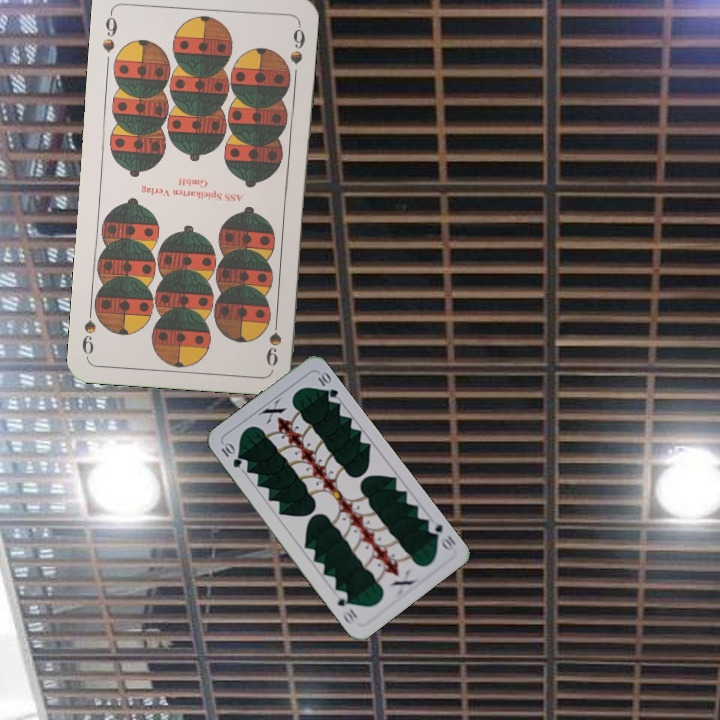G10: (423, 516, 459, 553), (217, 439, 244, 470)
S9: (262, 310, 284, 369), (98, 8, 120, 55)
